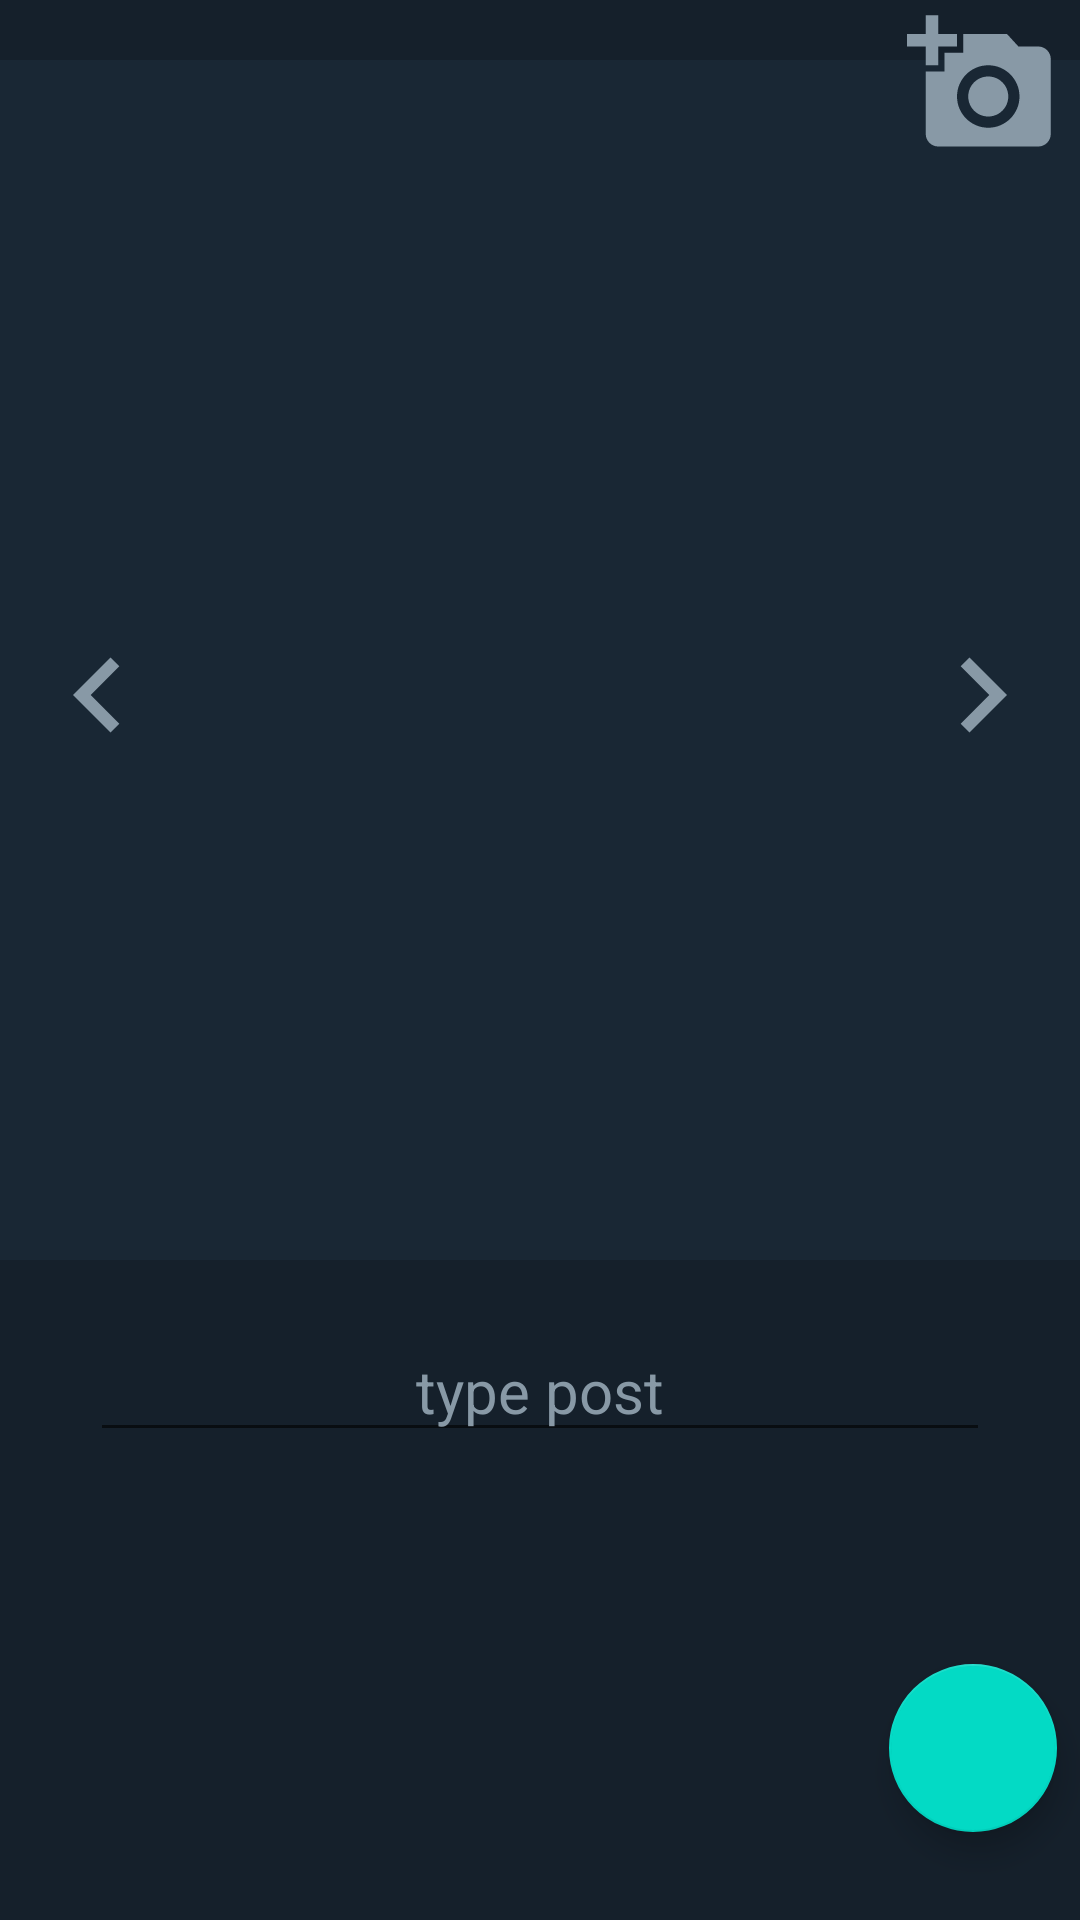

Icons on this 1080 x 1920 Android screen, each with the point to tap as (x,y):
choosephoto: (979,81)
navigate before: (96,695)
navigate next: (984,695)
